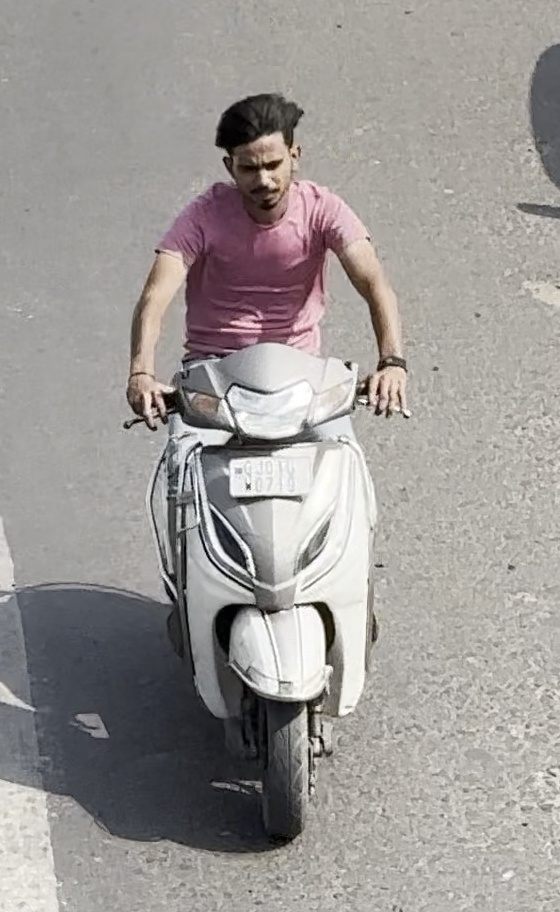BikeWithRider: (109, 84, 427, 850)
NoHelmet: (205, 85, 314, 219)
